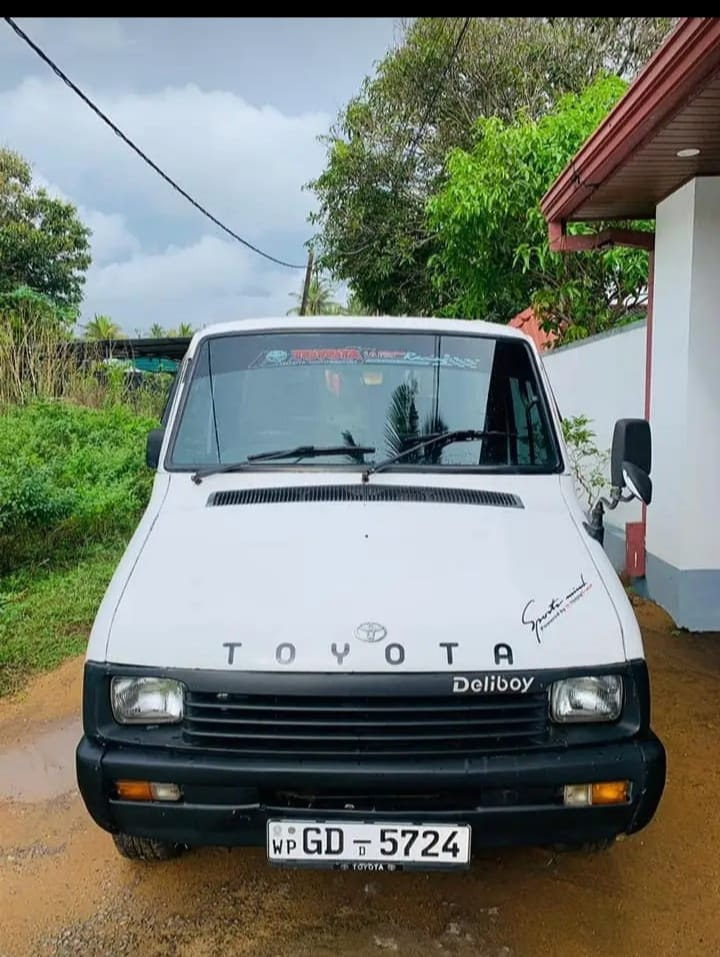number_plate: (266, 822, 472, 865)
